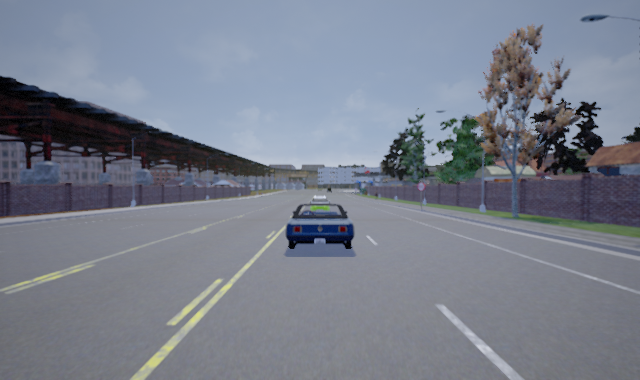vehicle: (284, 199, 355, 255), (308, 195, 331, 216)
